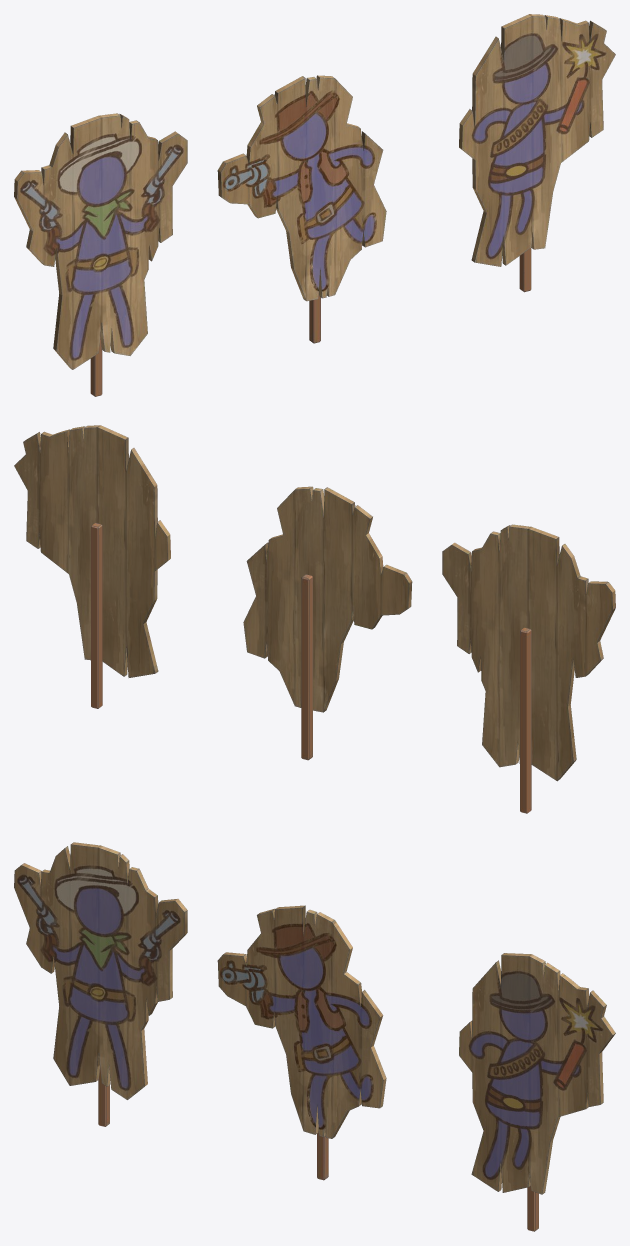
File: Bandits.glb
The picture shows the model from 3 angles, top to bottom: view 1: azimuth 30°, elevation 25°; view 2: azimuth 150°, elevation 25°; view 3: azimuth 330°, elevation 25°; orthographic projection.
Visible parts, largest first — view 1: BanditDoubleRevolver, BanditDynamite, BanditRevolver; view 2: BanditDoubleRevolver, BanditDynamite, BanditRevolver; view 3: BanditDoubleRevolver, BanditDynamite, BanditRevolver.
Boxes of the visible parts, x1=… form: BanditDoubleRevolver: x1=14, y1=113, x2=187, y2=396; BanditDynamite: x1=459, y1=14, x2=615, y2=292; BanditRevolver: x1=217, y1=75, x2=386, y2=343; BanditDoubleRevolver: x1=442, y1=524, x2=615, y2=813; BanditDynamite: x1=14, y1=425, x2=170, y2=708; BanditRevolver: x1=243, y1=486, x2=412, y2=760; BanditDoubleRevolver: x1=14, y1=842, x2=187, y2=1126; BanditDynamite: x1=459, y1=953, x2=615, y2=1231; BanditRevolver: x1=217, y1=905, x2=386, y2=1180.
Bounding box in the file's own units: 4.81 × 2.16 × 0.1095.
Materials: 3 (3 with a texture image).
